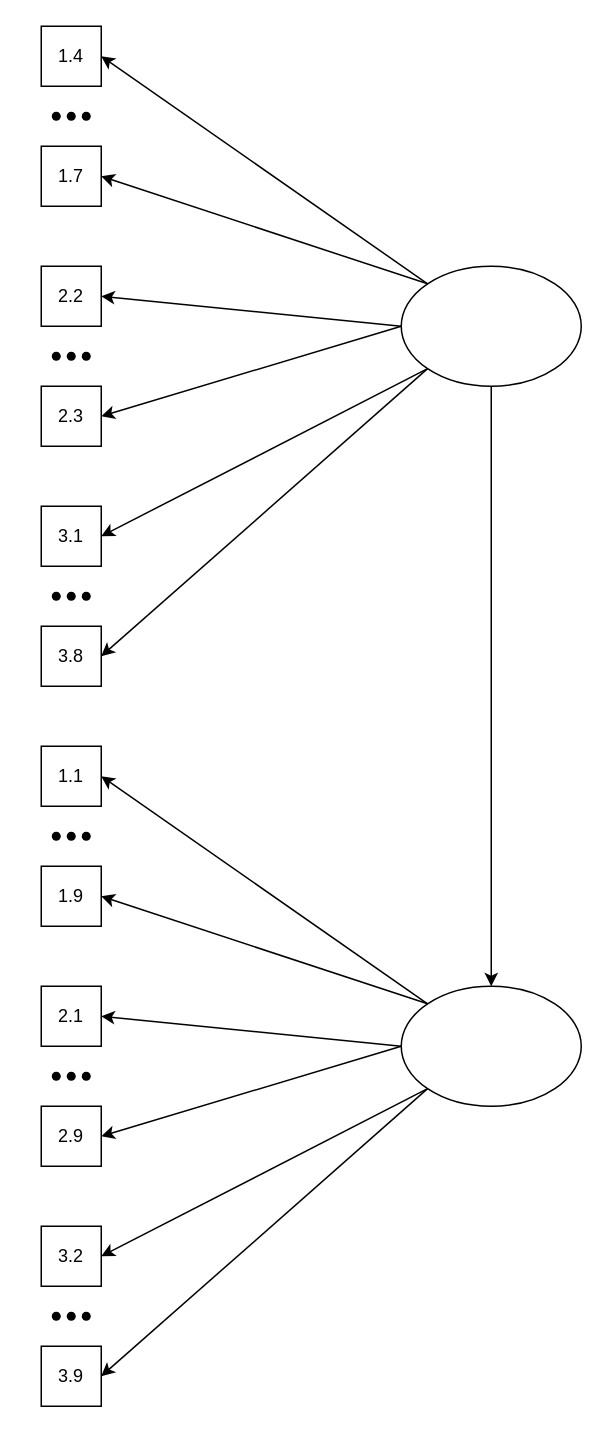
Some shapes in this 608 by 1433 pixel diagram are drawn without their labels. Here are the shapes that lost their labels. From the top down, the centre of each, then its label:
At point 490,325: "P1 = GD".
At point 490,1045: "P2 = GC".
